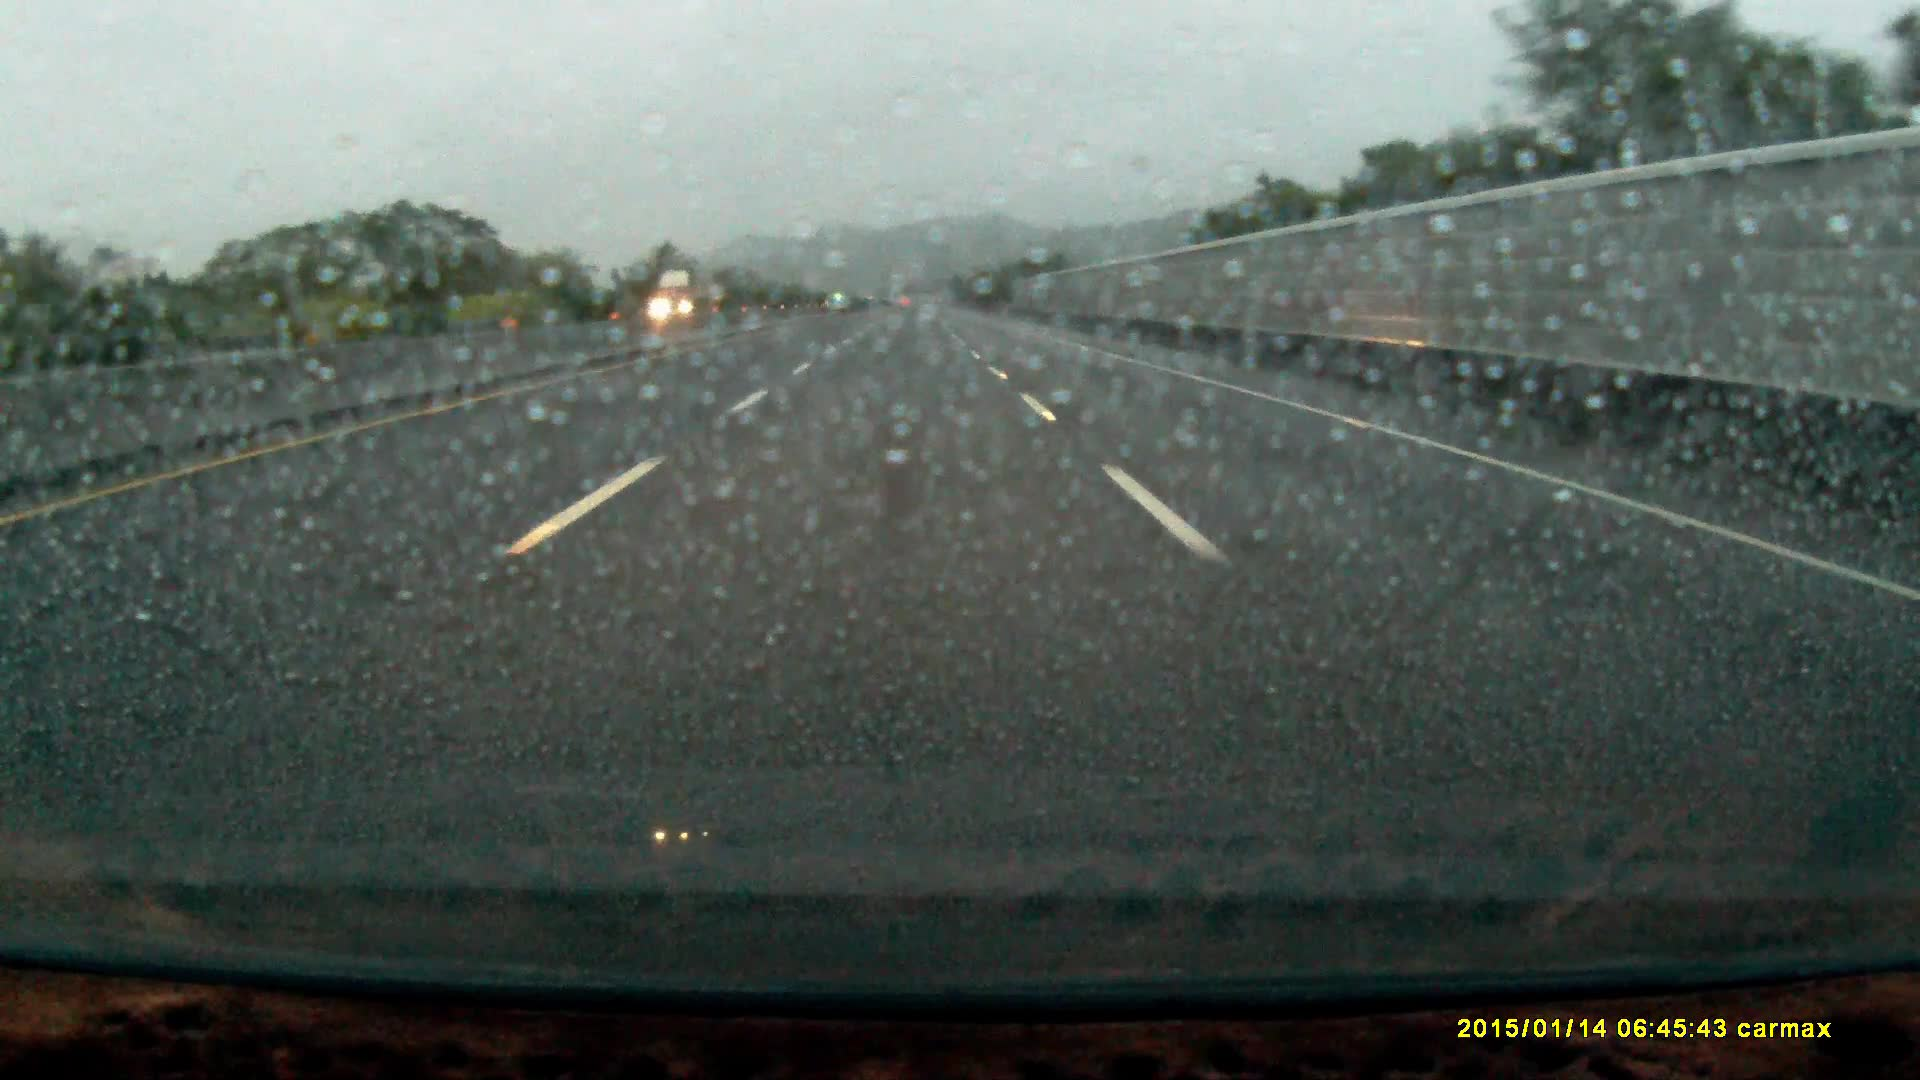vehicle: (651, 269, 717, 318)
